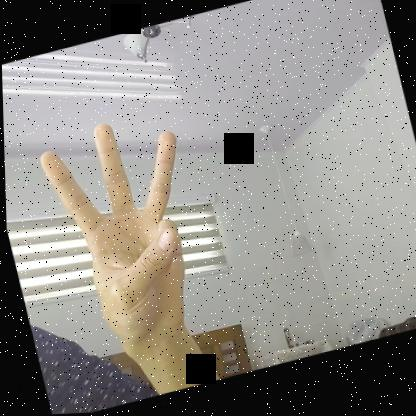W: (31, 105, 222, 363)
